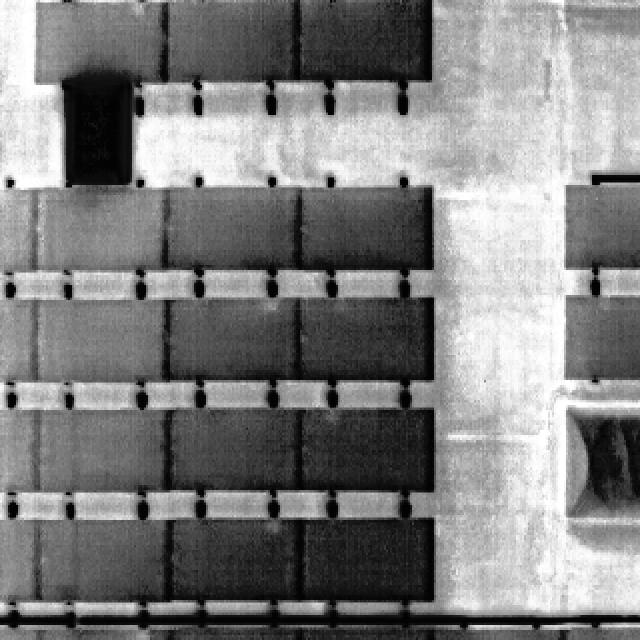Hotspots: (317, 408, 350, 432), (262, 519, 285, 544), (260, 301, 287, 320), (130, 627, 158, 640)
PV-modules: (300, 186, 437, 269), (33, 185, 166, 270), (169, 407, 303, 490), (165, 0, 303, 80), (303, 408, 434, 492), (173, 520, 307, 601), (299, 299, 436, 378), (167, 188, 302, 268), (41, 408, 172, 490), (39, 299, 168, 382), (39, 520, 173, 599), (165, 302, 302, 379), (306, 520, 439, 599), (302, 0, 434, 79), (34, 2, 164, 79), (566, 298, 640, 372), (566, 185, 640, 257), (0, 408, 42, 490), (0, 299, 40, 377), (0, 520, 39, 598), (0, 185, 32, 267), (44, 622, 174, 640), (302, 625, 434, 640), (172, 625, 302, 640), (432, 627, 568, 640), (568, 627, 640, 640), (0, 620, 42, 640)
